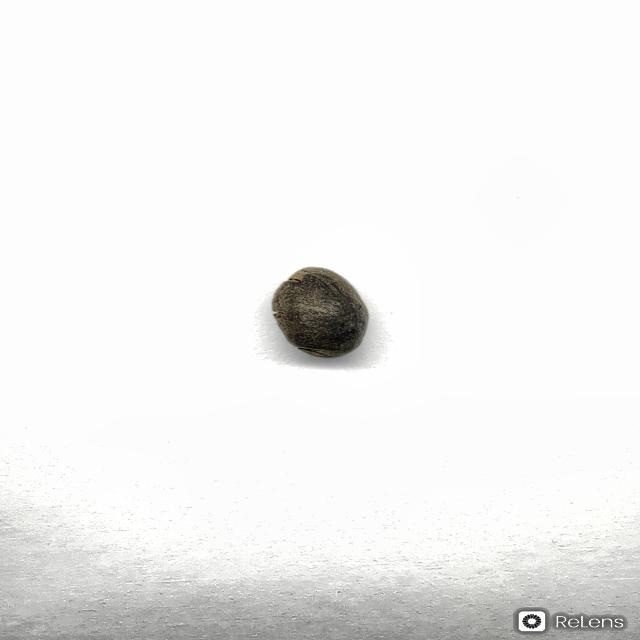Black: (270, 265, 370, 359)
